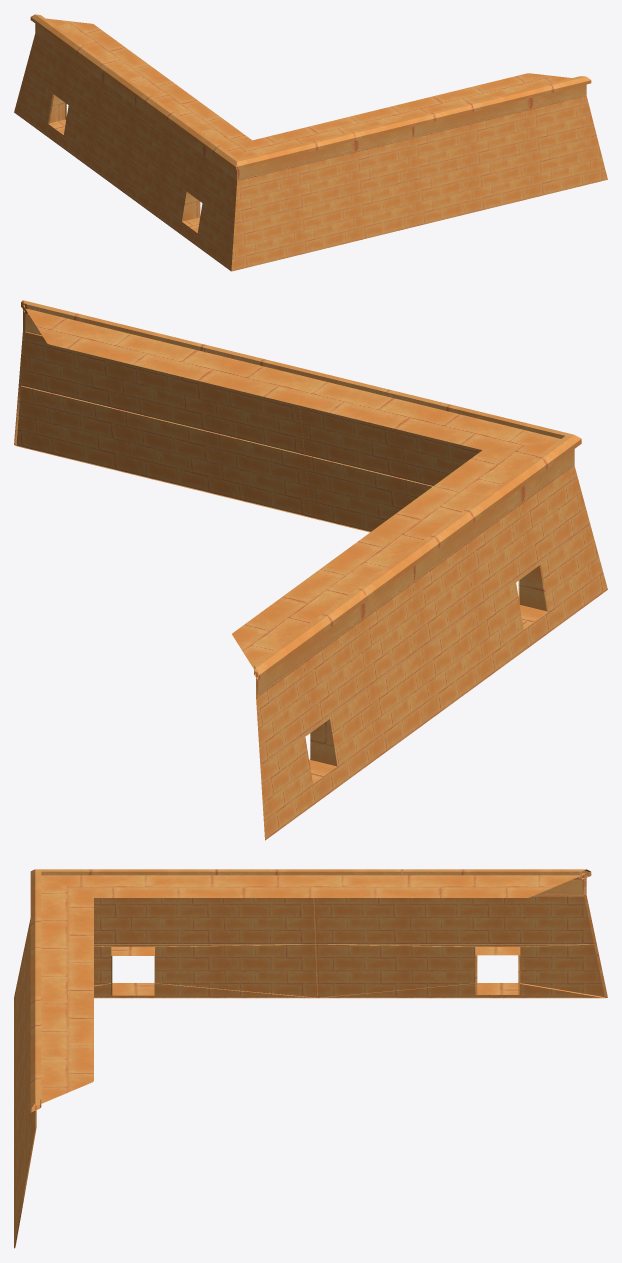
Rendered from temple-floor01-cut-001.glb.
The picture shows the model from 3 angles, top to bottom: view 1: azimuth 30°, elevation 25°; view 2: azimuth 150°, elevation 25°; view 3: azimuth 270°, elevation 25°; orthographic projection. The views are drawn at different scales.
Parts seen in each view (by area): view 1: TempleFloor01_Cut.001; view 2: TempleFloor01_Cut.001; view 3: TempleFloor01_Cut.001.
Part boxes in pixels (x1,y1,x2,y2): TempleFloor01_Cut.001: [14, 14, 607, 271]; TempleFloor01_Cut.001: [14, 300, 607, 840]; TempleFloor01_Cut.001: [14, 869, 607, 1248].
Bounding box in the file's own units: 64.24 × 16.41 × 64.24.
Materials: 2 (2 with a texture image).
